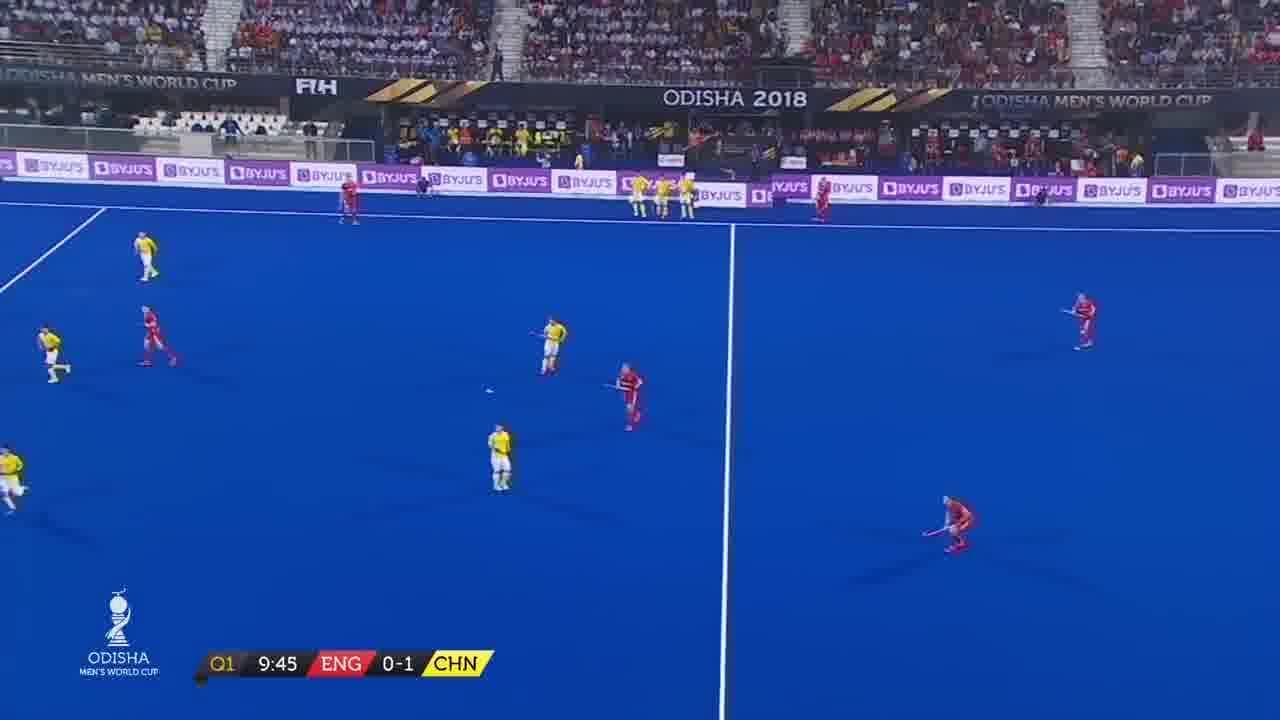ball: (478, 378, 499, 400)
